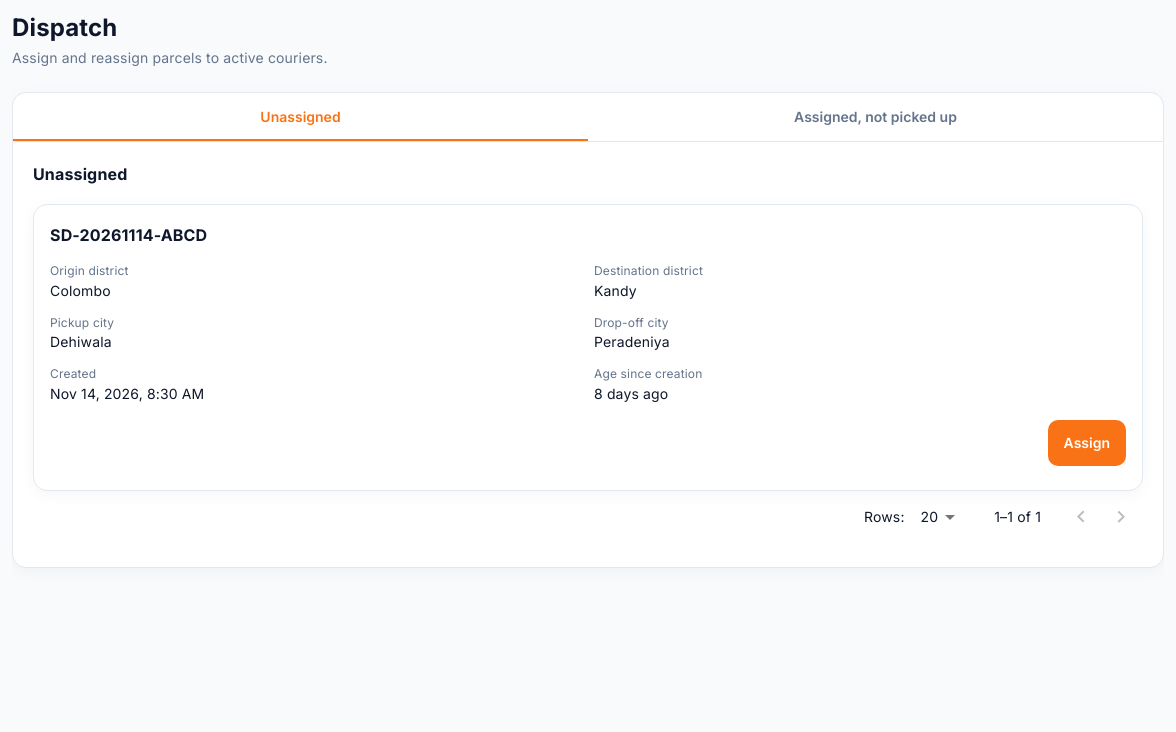
Test: TST-040 Member #7 dispatch queue › requests the assigned CREATED queue and exposes Reassign only on that tab
The width and height of the screenshot is (1176, 732).
Expected: the element named "Parcel SD-20261114-ABCD" is shown, left=33, top=204, right=1143, bottom=491
Step 1. Click the tab "Assigned, not picked up" → (876, 117), box left=588, top=93, right=1163, bottom=141
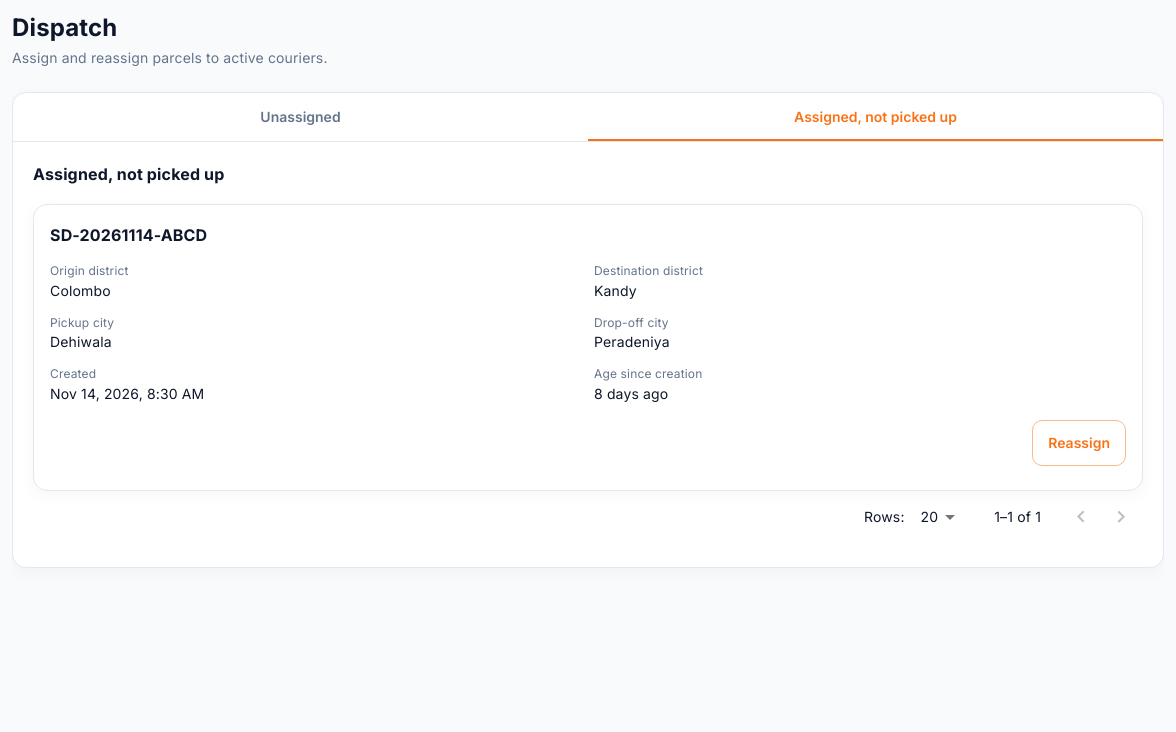
Expected: the button "Reassign" is shown, left=1032, top=420, right=1126, bottom=466
